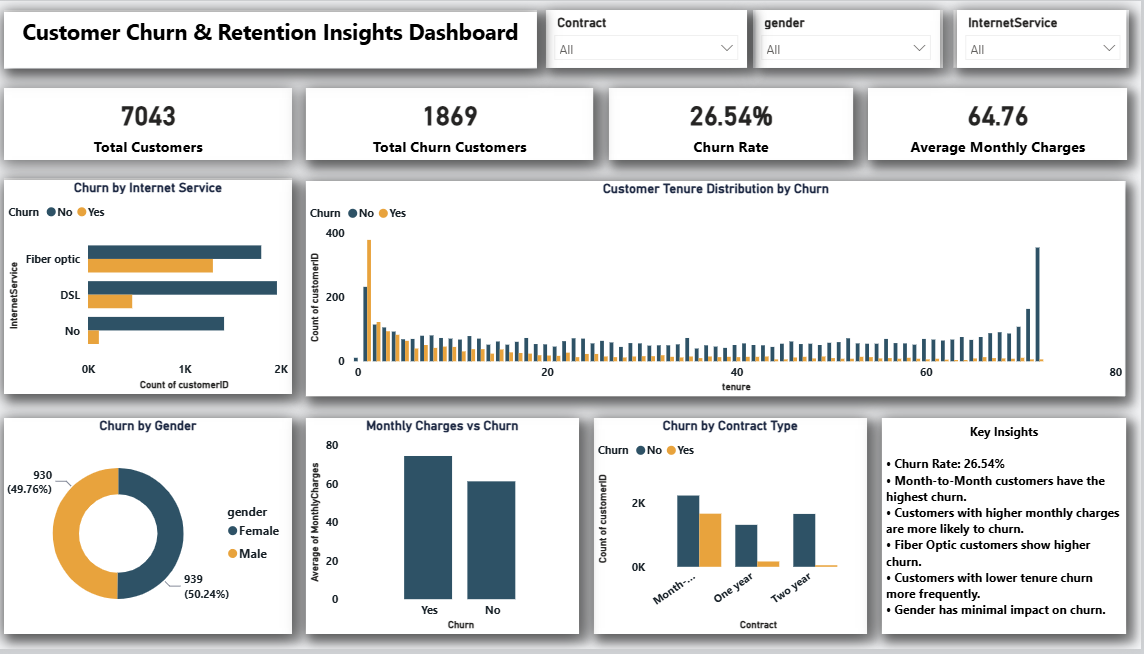

The page's visual inventory and layout, read from the dashboard file:
{"tool":"powerbi","page":{"name":"Page 1","canvas":[1280,720],"ordinal":0},"visuals":[{"type":"shape","box":[16,96,320,80],"z":0},{"type":"shape","box":[688,96,272,80],"z":1000},{"type":"card","fields":{"Values":["Count(WA_Fn-UseC_-Telco-Customer-Churn.customerID)"]},"box":[16,96,320,80],"z":2000},{"type":"shape","box":[352,96,320,80],"z":3000},{"type":"card","fields":{"Values":["WA_Fn-UseC_-Telco-Customer-Churn.Total Churn Customers"]},"box":[352,96,320,80],"z":4000},{"type":"card","fields":{"Values":["WA_Fn-UseC_-Telco-Customer-Churn.Churn Rate"]},"box":[688,96,272,80],"z":5000},{"type":"shape","box":[976,96,288,80],"z":6000},{"type":"card","fields":{"Values":["Avg(WA_Fn-UseC_-Telco-Customer-Churn.MonthlyCharges)"]},"box":[976,96,288,80],"z":7000},{"type":"shape","box":[672,464,304,240],"z":8000},{"type":"clusteredColumnChart","title":"Churn by Contract Type","fields":{"Category":["WA_Fn-UseC_-Telco-Customer-Churn.Contract"],"Y":["Count(WA_Fn-UseC_-Telco-Customer-Churn.customerID)"],"Series":["WA_Fn-UseC_-Telco-Customer-Churn.Churn"]},"box":[672,464,304,240],"z":9000},{"type":"shape","box":[16,464,320,240],"z":10000},{"type":"donutChart","title":"Churn by Gender","fields":{"Category":["WA_Fn-UseC_-Telco-Customer-Churn.gender"],"Y":["Count(WA_Fn-UseC_-Telco-Customer-Churn.customerID)"]},"box":[16,464,320,240],"z":11000},{"type":"shape","box":[16,197,320,240],"z":12000},{"type":"clusteredBarChart","title":"Churn by Internet Service","fields":{"Category":["WA_Fn-UseC_-Telco-Customer-Churn.InternetService"],"Y":["Count(WA_Fn-UseC_-Telco-Customer-Churn.customerID)"],"Series":["WA_Fn-UseC_-Telco-Customer-Churn.Churn"]},"box":[16,198,320,238],"z":13000},{"type":"shape","box":[352,464,304,240],"z":13500},{"type":"clusteredColumnChart","title":"Monthly Charges vs Churn","fields":{"Category":["WA_Fn-UseC_-Telco-Customer-Churn.Churn"],"Y":["Avg(WA_Fn-UseC_-Telco-Customer-Churn.MonthlyCharges)"]},"box":[352,464,304,240],"z":14000},{"type":"shape","box":[352,200,910,240],"z":15000},{"type":"clusteredColumnChart","title":"Tenure vs Churn","fields":{"Category":["WA_Fn-UseC_-Telco-Customer-Churn.tenure"],"Y":["Count(WA_Fn-UseC_-Telco-Customer-Churn.customerID)"],"Series":["WA_Fn-UseC_-Telco-Customer-Churn.Churn"]},"box":[352,200,912,239],"z":16000},{"type":"shape","box":[851,10,208,64],"z":17000},{"type":"slicer","fields":{"Values":["WA_Fn-UseC_-Telco-Customer-Churn.gender"]},"box":[848,10,208,64],"z":18000},{"type":"shape","box":[619,10,224,64],"z":19000},{"type":"slicer","fields":{"Values":["WA_Fn-UseC_-Telco-Customer-Churn.Contract"]},"box":[618,10,224,64],"z":20000},{"type":"shape","box":[1072,10,192,64],"z":21000},{"type":"slicer","fields":{"Values":["WA_Fn-UseC_-Telco-Customer-Churn.InternetService"]},"box":[1075,10,192,64],"z":22000},{"type":"shape","box":[16,10,592,64],"z":23000},{"type":"textbox","box":[16,11,592,64],"z":24000},{"type":"shape","box":[992,464,272,240],"z":24500},{"type":"textbox","box":[992,464,272,240],"z":25000}]}

Visuals, with their boxes in screenshot pixels (x1, y1, x2, y2), scaled from the page's 1280x720 canvas onto the 1144x654 screenshot:
shape: (x1=14, y1=87, x2=300, y2=160)
shape: (x1=615, y1=87, x2=858, y2=160)
card - Count(WA_Fn-UseC_-Telco-Customer-Churn.customerID): (x1=14, y1=87, x2=300, y2=160)
shape: (x1=315, y1=87, x2=601, y2=160)
card - WA_Fn-UseC_-Telco-Customer-Churn.Total Churn Customers: (x1=315, y1=87, x2=601, y2=160)
card - WA_Fn-UseC_-Telco-Customer-Churn.Churn Rate: (x1=615, y1=87, x2=858, y2=160)
shape: (x1=872, y1=87, x2=1130, y2=160)
card - Avg(WA_Fn-UseC_-Telco-Customer-Churn.MonthlyCharges): (x1=872, y1=87, x2=1130, y2=160)
shape: (x1=601, y1=421, x2=872, y2=639)
"Churn by Contract Type" clusteredColumnChart: (x1=601, y1=421, x2=872, y2=639)
shape: (x1=14, y1=421, x2=300, y2=639)
"Churn by Gender" donutChart: (x1=14, y1=421, x2=300, y2=639)
shape: (x1=14, y1=179, x2=300, y2=397)
"Churn by Internet Service" clusteredBarChart: (x1=14, y1=180, x2=300, y2=396)
shape: (x1=315, y1=421, x2=586, y2=639)
"Monthly Charges vs Churn" clusteredColumnChart: (x1=315, y1=421, x2=586, y2=639)
shape: (x1=315, y1=182, x2=1128, y2=400)
"Tenure vs Churn" clusteredColumnChart: (x1=315, y1=182, x2=1130, y2=399)
shape: (x1=761, y1=9, x2=946, y2=67)
slicer - WA_Fn-UseC_-Telco-Customer-Churn.gender: (x1=758, y1=9, x2=944, y2=67)
shape: (x1=553, y1=9, x2=753, y2=67)
slicer - WA_Fn-UseC_-Telco-Customer-Churn.Contract: (x1=552, y1=9, x2=753, y2=67)
shape: (x1=958, y1=9, x2=1130, y2=67)
slicer - WA_Fn-UseC_-Telco-Customer-Churn.InternetService: (x1=961, y1=9, x2=1132, y2=67)
shape: (x1=14, y1=9, x2=543, y2=67)
textbox: (x1=14, y1=10, x2=543, y2=68)
shape: (x1=887, y1=421, x2=1130, y2=639)
textbox: (x1=887, y1=421, x2=1130, y2=639)
